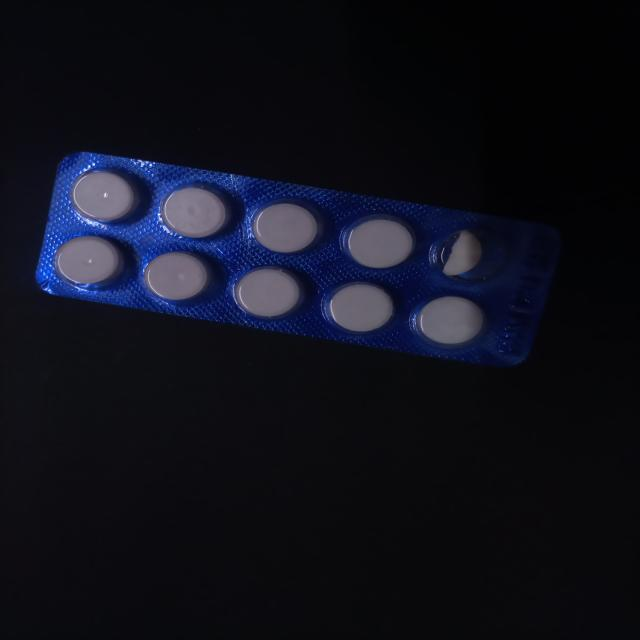defect: (428, 226, 513, 286)
